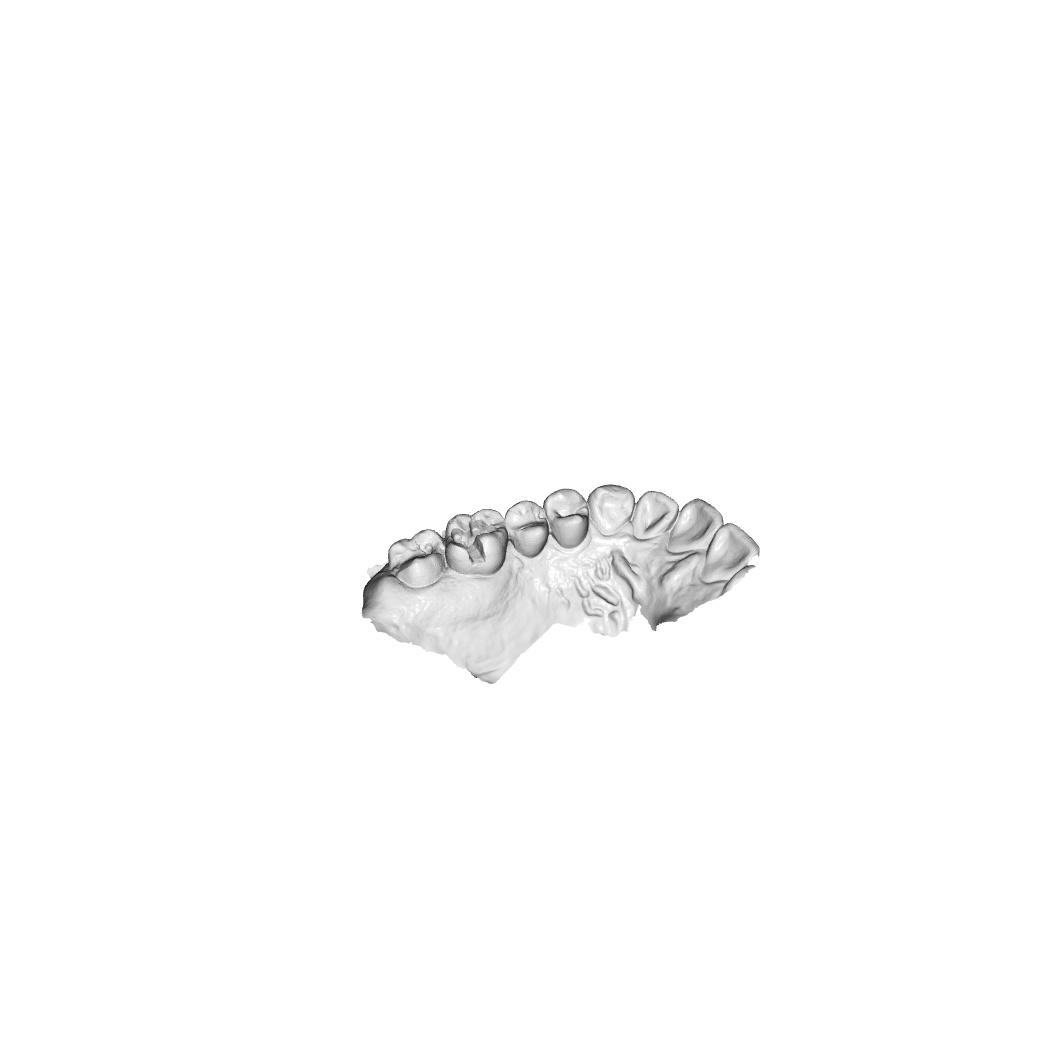canine: (586, 484, 635, 537)
incisor: (699, 522, 760, 585), (666, 497, 725, 554), (632, 489, 680, 543)
inlay: (444, 515, 504, 570)
molar: (386, 528, 447, 590)
premolar: (542, 487, 592, 549), (504, 499, 551, 559)
